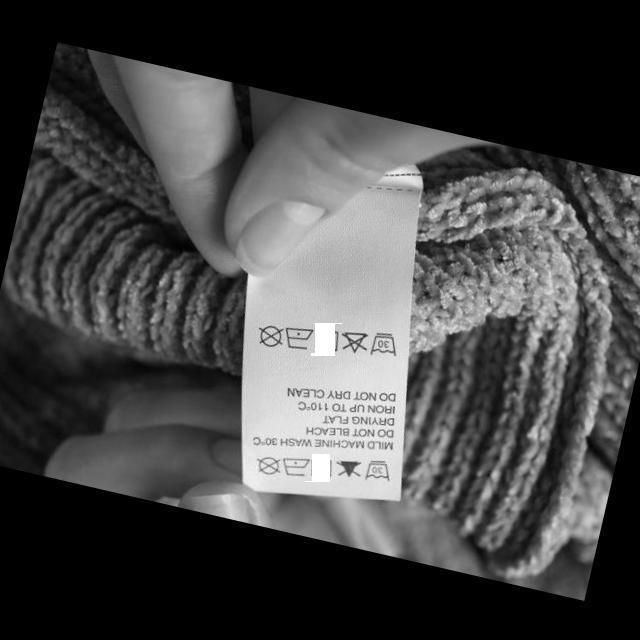30C: (368, 326, 402, 359), (362, 454, 394, 486)
DN_bleach: (336, 324, 372, 356), (330, 453, 363, 481)
DN_dry_clean: (252, 320, 286, 350), (252, 450, 284, 478)
iron_low: (280, 320, 314, 352), (277, 450, 311, 480)
